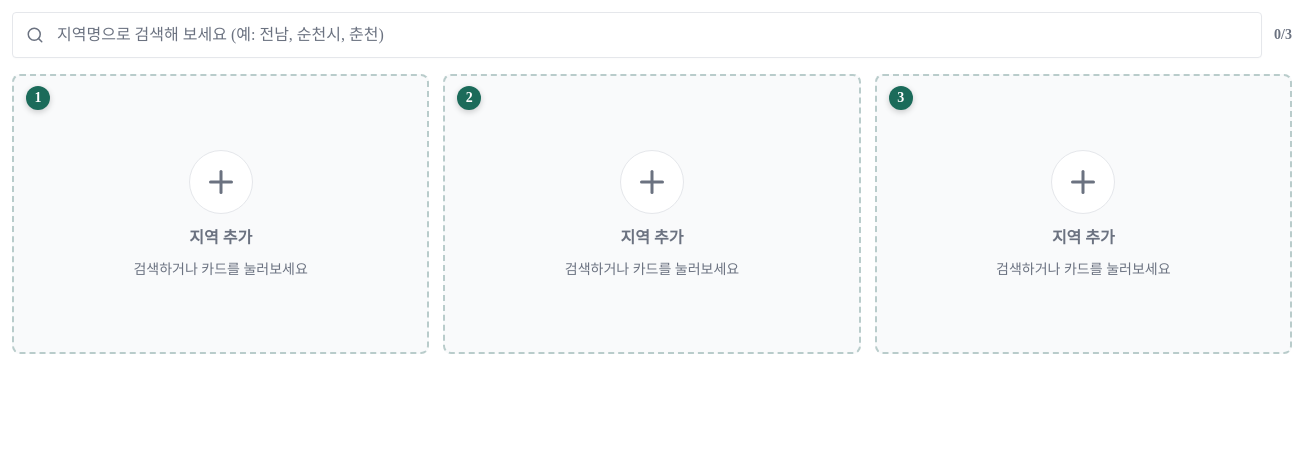
Scenario: RegionCardsSelector (/regions/compare) › Tab 으로 검색창을 벗어나면 목록이 닫힌다
The width and height of the screenshot is (1304, 461).
Step 1. Focus the dropdown named "지역 검색" → [637, 35], box top-left (12, 12), bottom-right (1262, 58)
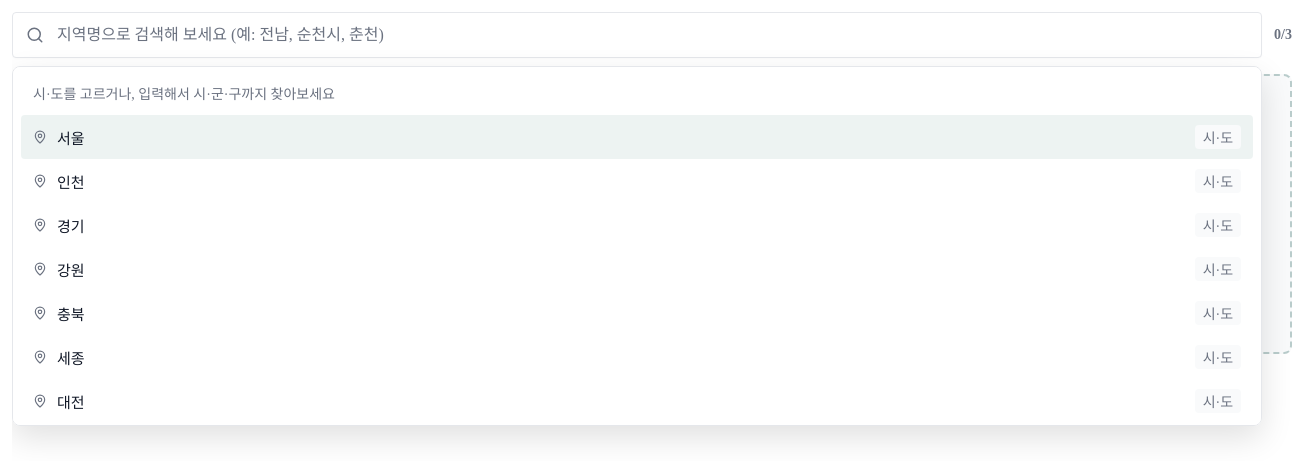
Now the list is shown
Step 2. Press Tab in the dropdown named "지역 검색", box top-left (12, 12), bottom-right (1262, 58)
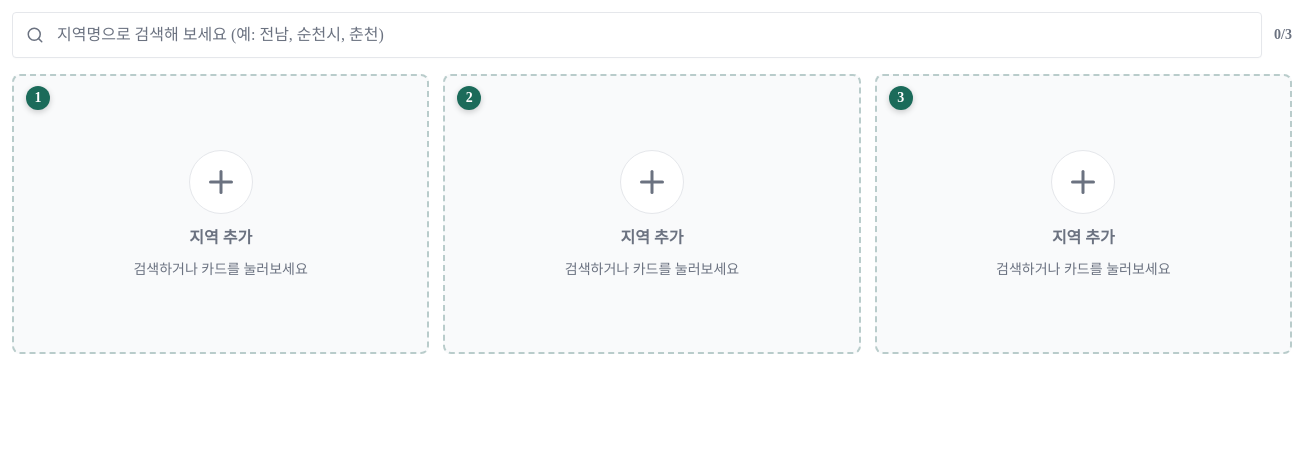
Now the list is gone
